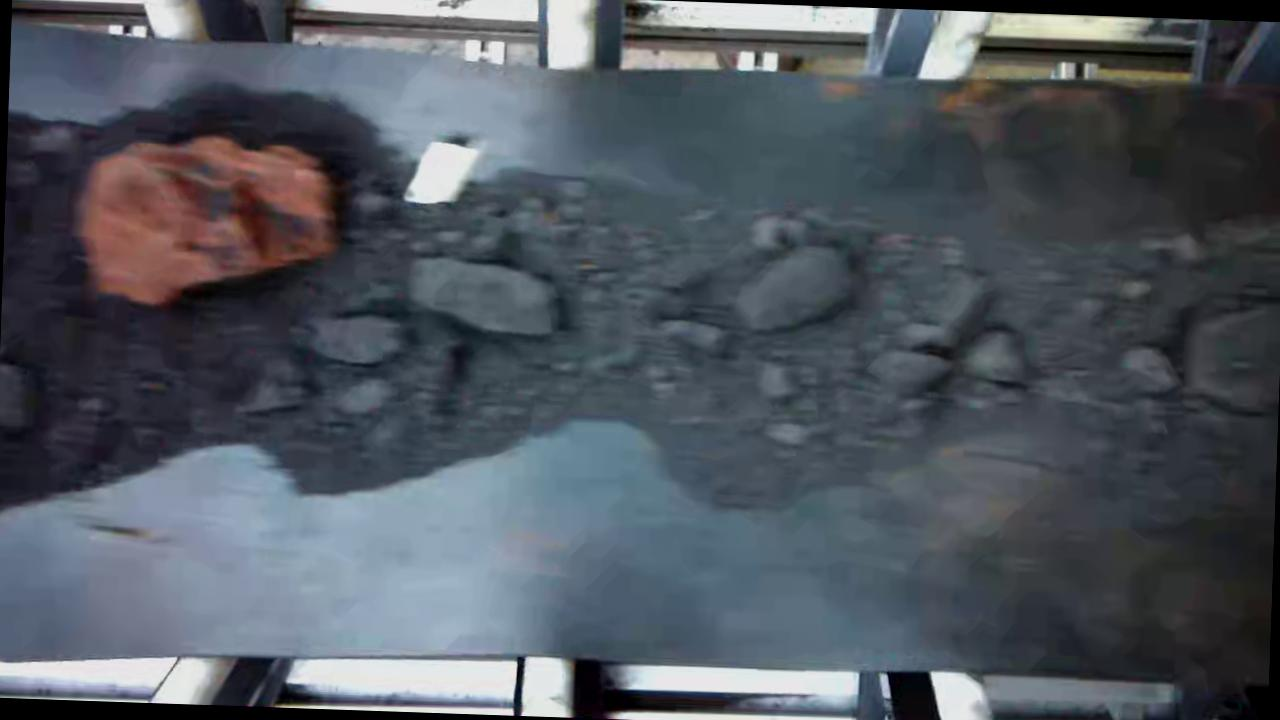conveyor: (0, 53, 1280, 680)
